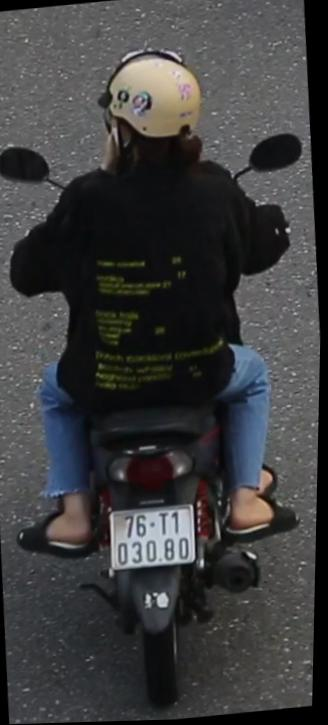LP: (105, 499, 203, 578)
helmet: (90, 37, 213, 185)
